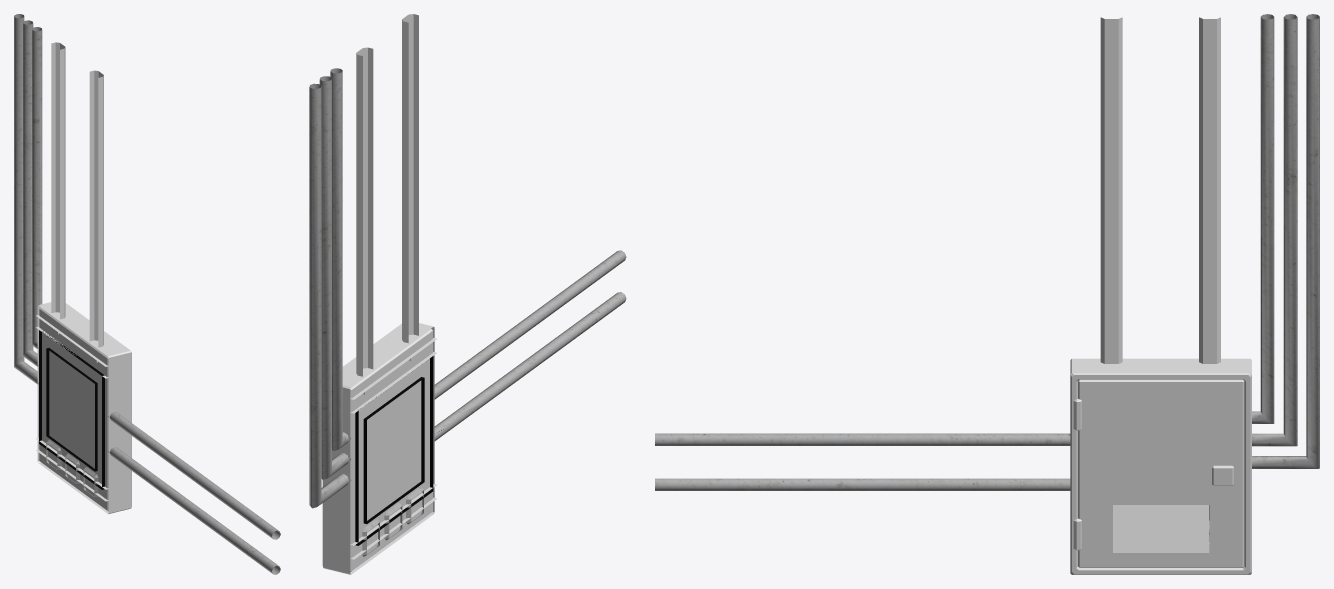
The model's file is EL_Panel_1.fbx.
The picture shows the model from 3 angles, left to right: view 1: azimuth 30°, elevation 25°; view 2: azimuth 150°, elevation 25°; view 3: azimuth 270°, elevation 25°; orthographic projection. The views are drawn at different scales.
Visible parts, largest first — view 1: Electrical_Panel_Outer_Wires.002, Electrical_Panel, Electrical_Panel_Outer_Wires.001, Cube.004; view 2: Electrical_Panel_Outer_Wires.002, Electrical_Panel, Electrical_Panel_Outer_Wires.001, Cube.004; view 3: Electrical_Panel_Door, Electrical_Panel_Outer_Wires.002, Electrical_Panel_Outer_Wires.001, Electrical_Panel.
Part boxes in pixels (bbox=[...]): Electrical_Panel_Outer_Wires.002: bbox=[14, 14, 280, 574]; Electrical_Panel: bbox=[36, 302, 131, 514]; Electrical_Panel_Outer_Wires.001: bbox=[51, 42, 103, 347]; Cube.004: bbox=[39, 330, 104, 489]; Electrical_Panel_Outer_Wires.002: bbox=[309, 68, 626, 508]; Electrical_Panel: bbox=[322, 323, 436, 574]; Electrical_Panel_Outer_Wires.001: bbox=[356, 14, 418, 376]; Cube.004: bbox=[355, 356, 433, 545]; Electrical_Panel_Door: bbox=[1073, 379, 1244, 567]; Electrical_Panel_Outer_Wires.002: bbox=[655, 14, 1319, 490]; Electrical_Panel_Outer_Wires.001: bbox=[1100, 17, 1220, 363]; Electrical_Panel: bbox=[1070, 358, 1251, 574].
Size of the model in its own units: 25.81 by 366 by 402.
